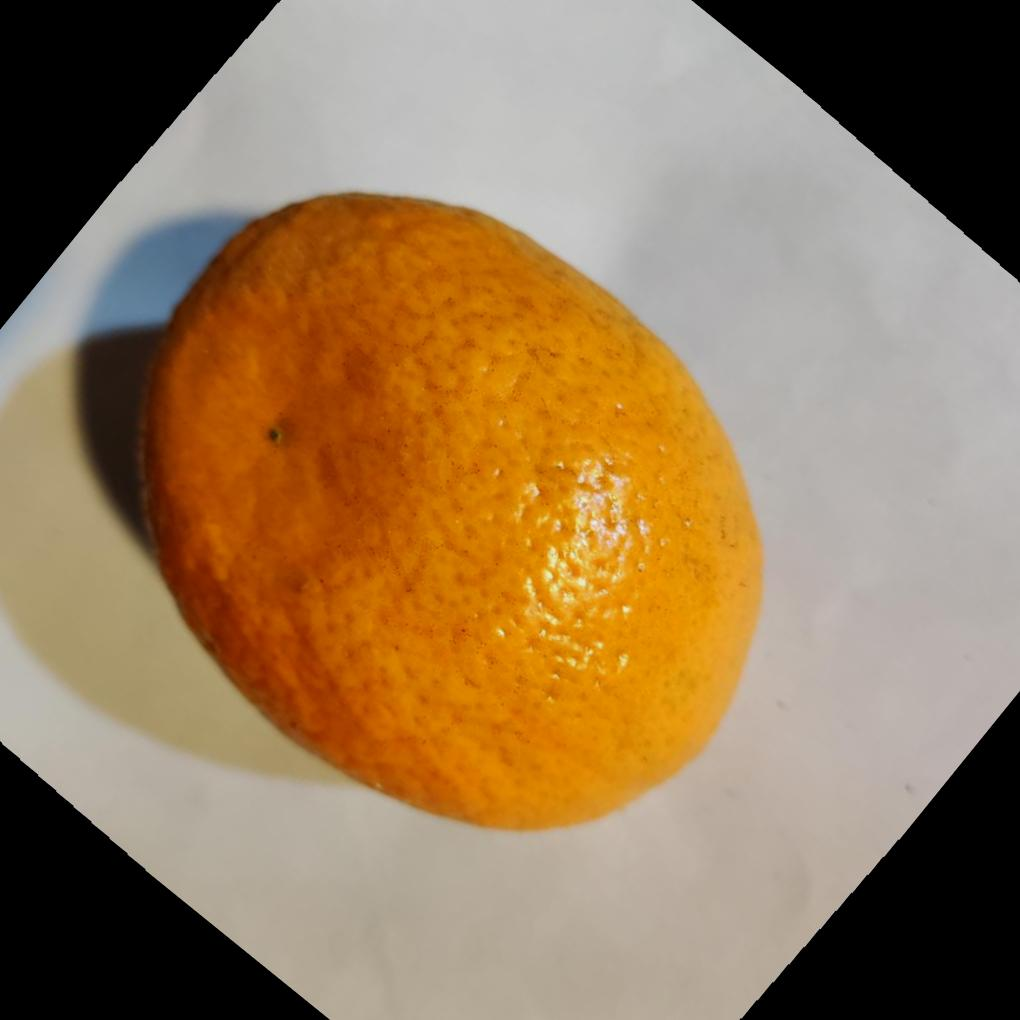FreshGuava: (129, 192, 764, 836)
